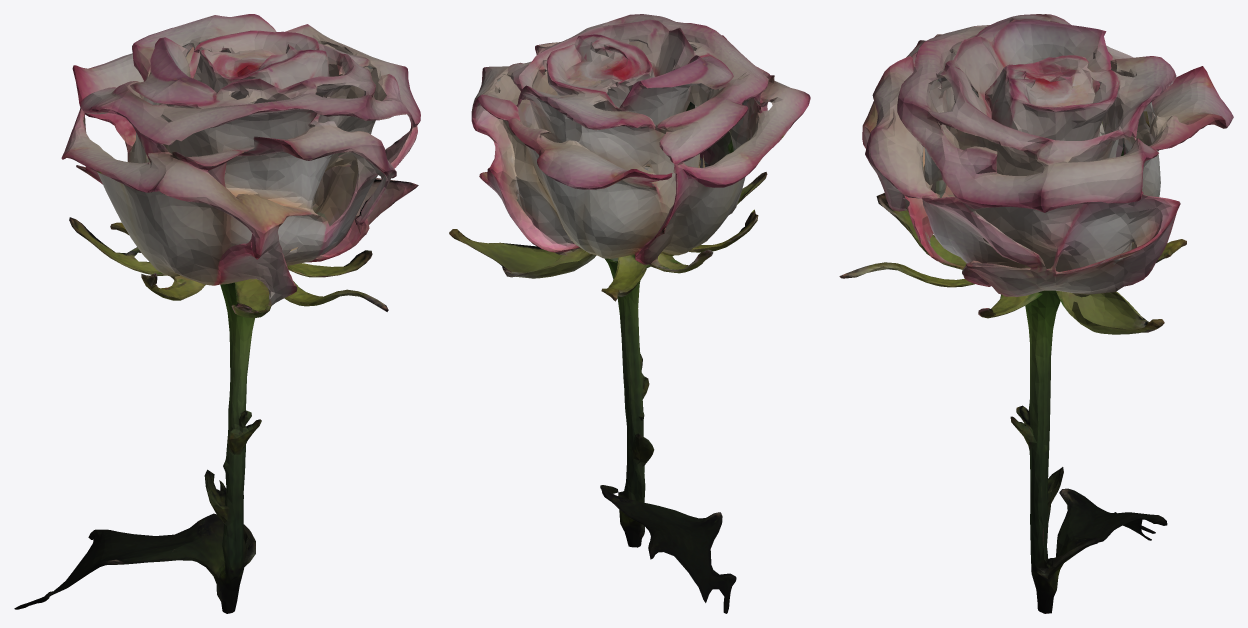
The picture shows the model from 3 angles, left to right: view 1: azimuth 30°, elevation 25°; view 2: azimuth 150°, elevation 25°; view 3: azimuth 270°, elevation 25°; orthographic projection. The views are drawn at different scales.
Visible parts, largest first — view 1: world; view 2: world; view 3: world.
Boxes of the visible parts, x1,y1,x2,y2 form: world: (14, 14, 420, 613); world: (449, 14, 810, 613); world: (839, 14, 1233, 613).
Bounding box in the file's own units: 0.6146 × 0.9848 × 0.6223.
Materials: 1 (1 with a texture image).
